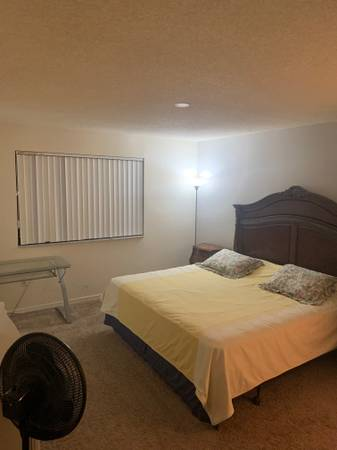bed: (113, 195, 337, 427)
